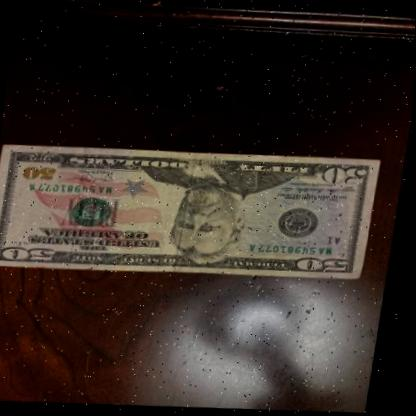fifty-front: (0, 131, 384, 293)
